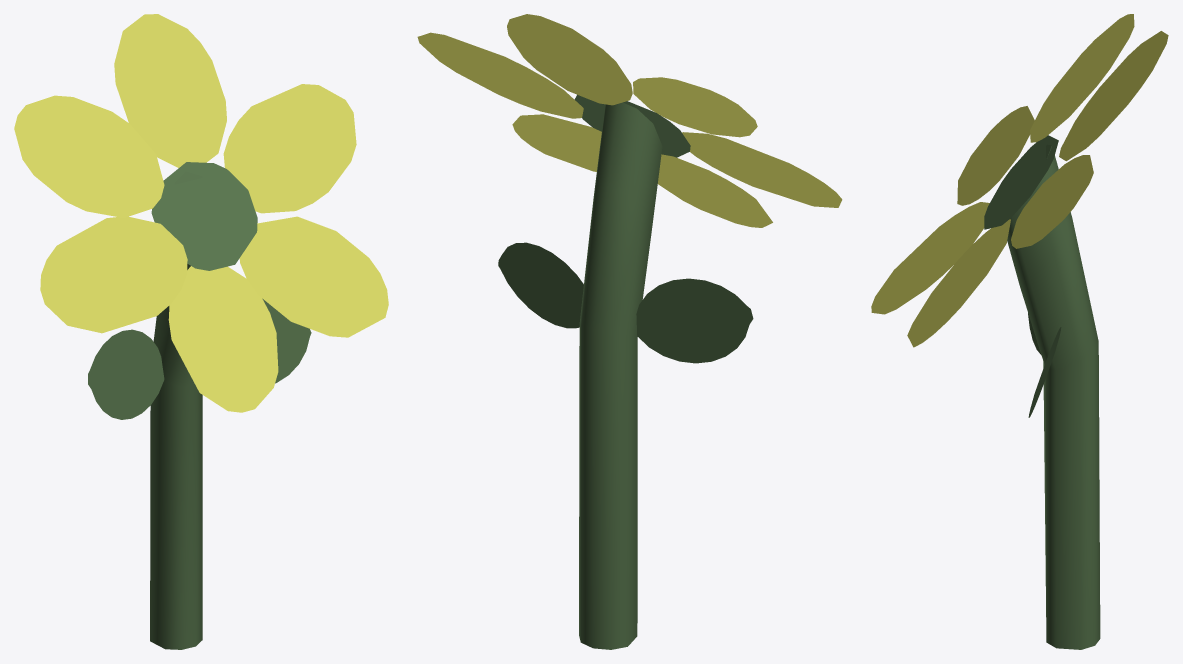
File: SQ_Object_Flower.fbx
3 renders of one model, left to right at view 1: azimuth 30°, elevation 25°; view 2: azimuth 150°, elevation 25°; view 3: azimuth 270°, elevation 25°, orthographic. The views are drawn at different scales.
Visible parts, largest first — view 1: pCylinder2, pDisc2, pasted__pDisc2; view 2: pCylinder2, pDisc2, pasted__pDisc2; view 3: pCylinder2, pasted__pDisc2.
Part boxes in pixels (x1,y1,x2,y2): pCylinder2: (14,14,388,649); pDisc2: (88,329,164,419); pasted__pDisc2: (262,298,311,383); pCylinder2: (417,14,842,649); pDisc2: (636,278,753,363); pasted__pDisc2: (498,242,583,328); pCylinder2: (871,14,1168,649); pasted__pDisc2: (1028,327,1061,417).
Size of the model in its own units: 6.88 by 11.23 by 4.95.
